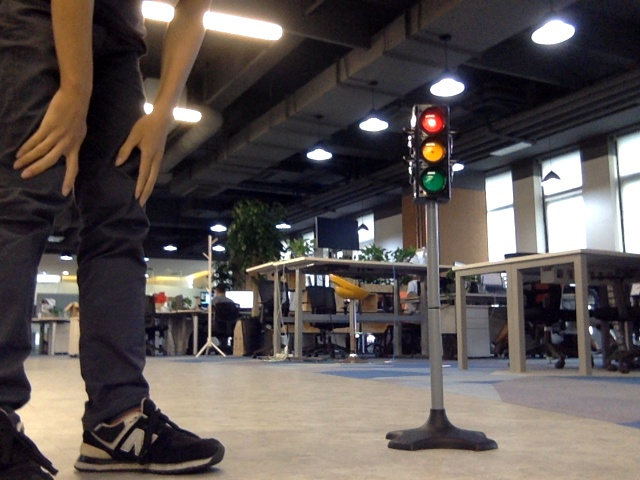red: (416, 109, 446, 195)
